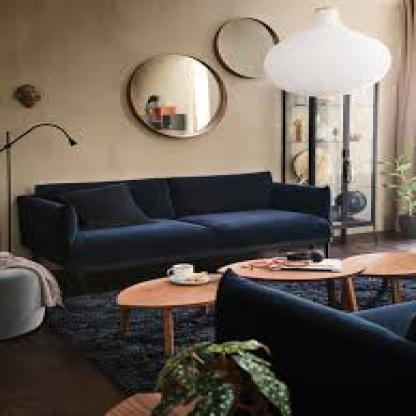sofa: (24, 176, 335, 274)
